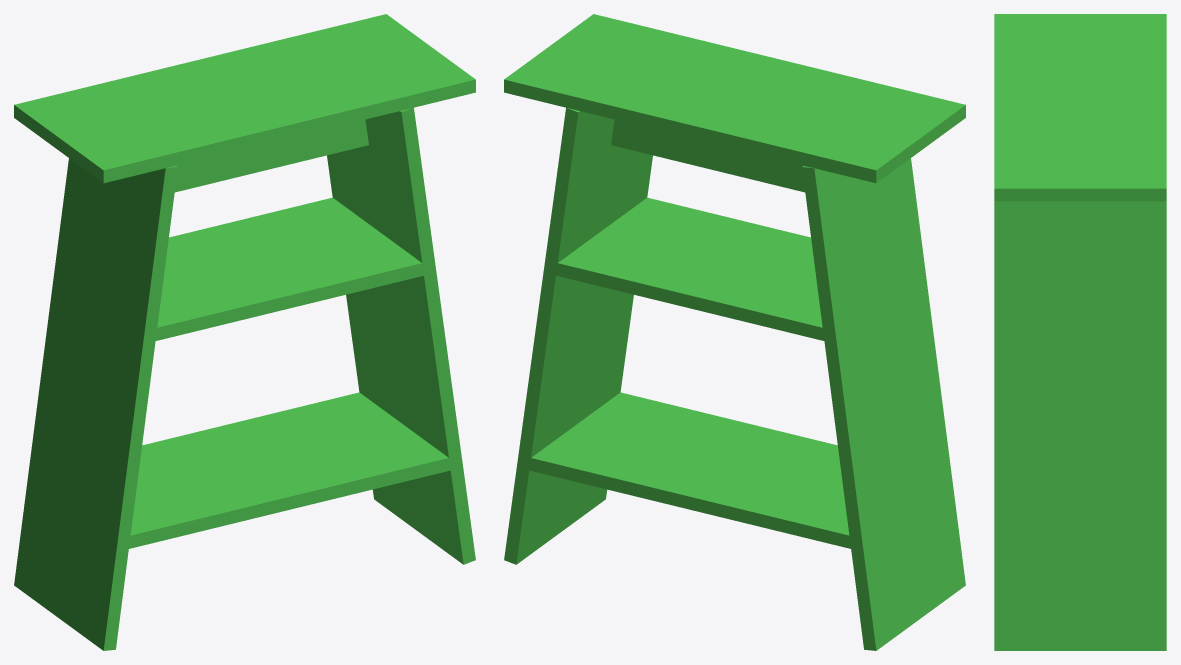
The picture shows the model from 3 angles, left to right: view 1: azimuth 30°, elevation 25°; view 2: azimuth 150°, elevation 25°; view 3: azimuth 270°, elevation 25°; orthographic projection. The views are drawn at different scales.
Visible parts, largest first — view 1: Group_002, Group_001; view 2: Group_002, Group_001; view 3: Group_002, Group_001.
Boxes of the visible parts, x1,y1,x2,y2 form: Group_002: [14, 107, 475, 650]; Group_001: [14, 14, 475, 183]; Group_002: [504, 107, 965, 650]; Group_001: [504, 14, 965, 183]; Group_002: [994, 201, 1166, 650]; Group_001: [994, 14, 1166, 201].
Size of the model in its own units: 23.62 by 29.24 by 9.84.
